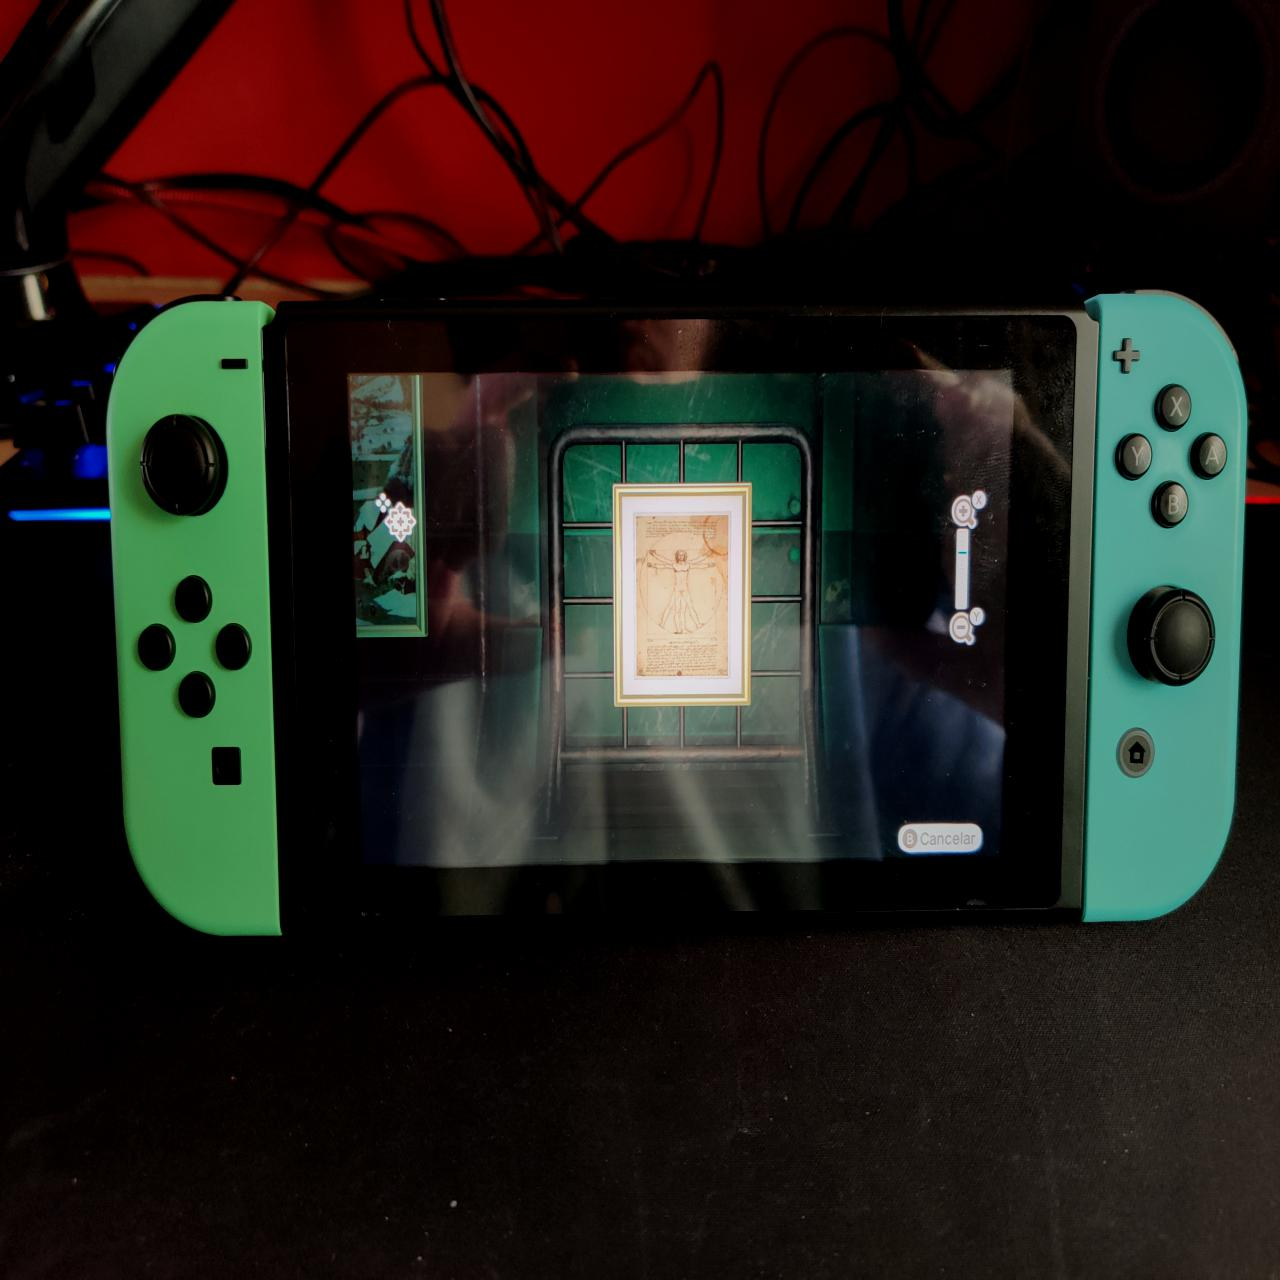VitruvianManFake: (636, 517, 729, 681)
